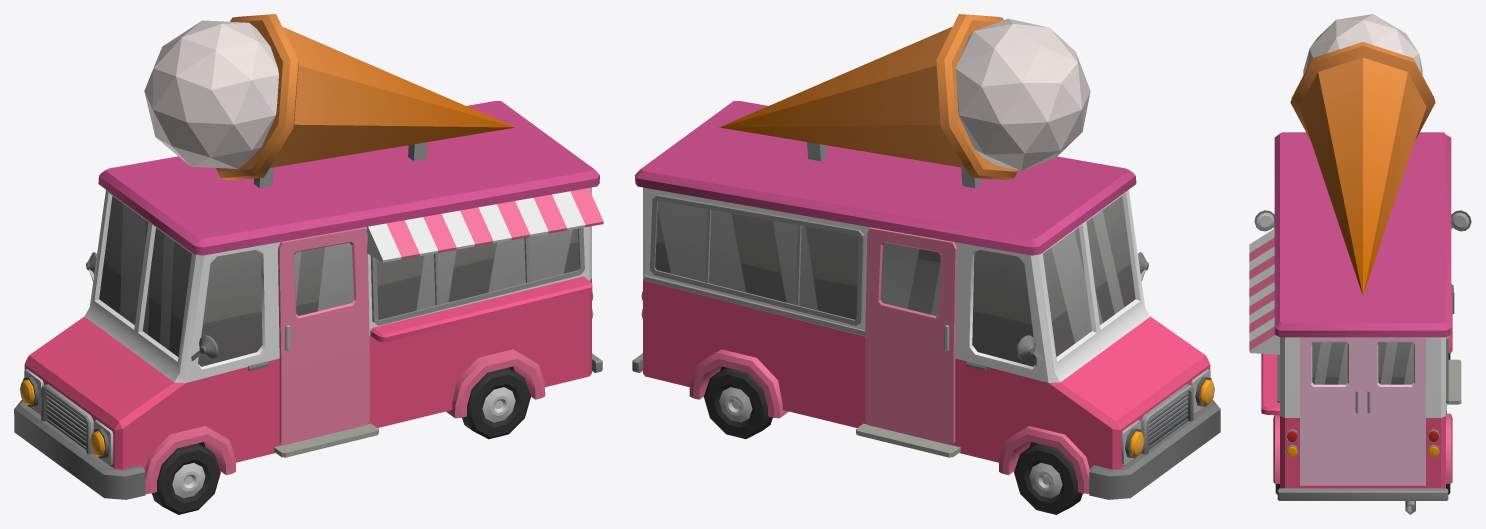
File: IceTruck_2_I.gltf
3 renders of one model, left to right at view 1: azimuth 30°, elevation 25°; view 2: azimuth 150°, elevation 25°; view 3: azimuth 270°, elevation 25°, orthographic. The views are drawn at different scales.
Parts seen in each view (by area): view 1: IceTruck_2_I, RL, FL; view 2: IceTruck_2_I, FR, RR; view 3: IceTruck_2_I.
Part boxes in pixels (x1,y1,x2,y2): IceTruck_2_I: (14,14,603,499); RL: (462,367,530,439); FL: (152,443,220,514); IceTruck_2_I: (632,14,1220,499); FR: (1014,443,1082,514); RR: (704,368,772,438); IceTruck_2_I: (1249,14,1471,514).
Size of the model in its own units: 4.16 by 3.43 by 1.84.
Materials: 4 (4 with a texture image).
